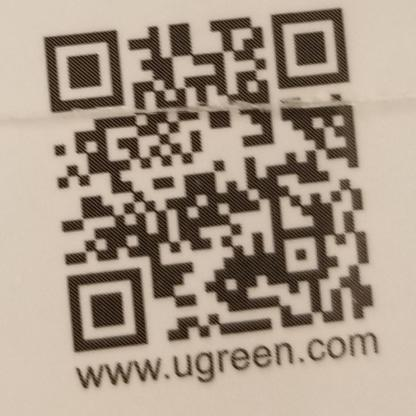qr: (34, 3, 382, 356)
